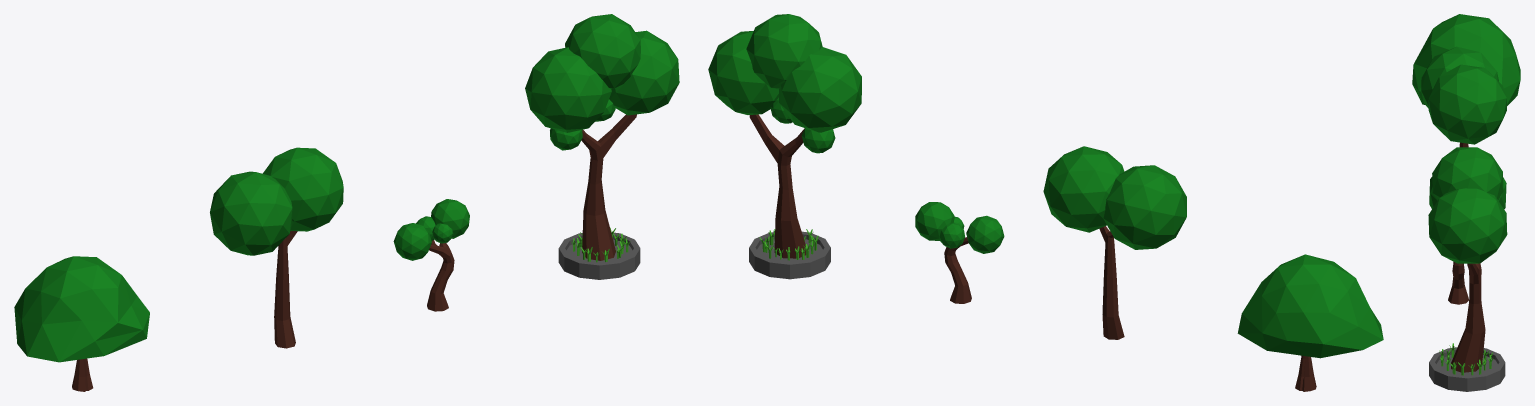
The model's file is Pohon.fbx.
The picture shows the model from 3 angles, left to right: view 1: azimuth 30°, elevation 25°; view 2: azimuth 150°, elevation 25°; view 3: azimuth 270°, elevation 25°; orthographic projection. The views are drawn at different scales.
Visible parts, largest first — view 1: Pohon 4, Pohon 3, Pohon 2, Pohon 1; view 2: Pohon 4, Pohon 3, Pohon 2, Pohon 1; view 3: Pohon 4, Pohon 3, Pohon 2, Pohon 1.
Part boxes in pixels (x1,y1,x2,y2): Pohon 4: [525, 14, 679, 279]; Pohon 3: [210, 147, 343, 348]; Pohon 2: [14, 256, 149, 391]; Pohon 1: [393, 199, 469, 311]; Pohon 4: [708, 14, 861, 279]; Pohon 3: [1043, 146, 1186, 339]; Pohon 2: [1237, 254, 1383, 391]; Pohon 1: [915, 202, 1004, 303]; Pohon 4: [1428, 147, 1507, 391]; Pohon 3: [1421, 46, 1506, 147]; Pohon 2: [1412, 14, 1520, 105]; Pohon 1: [1448, 261, 1468, 304].
Bounding box in the file's own units: 7019 × 2486 × 1072.
